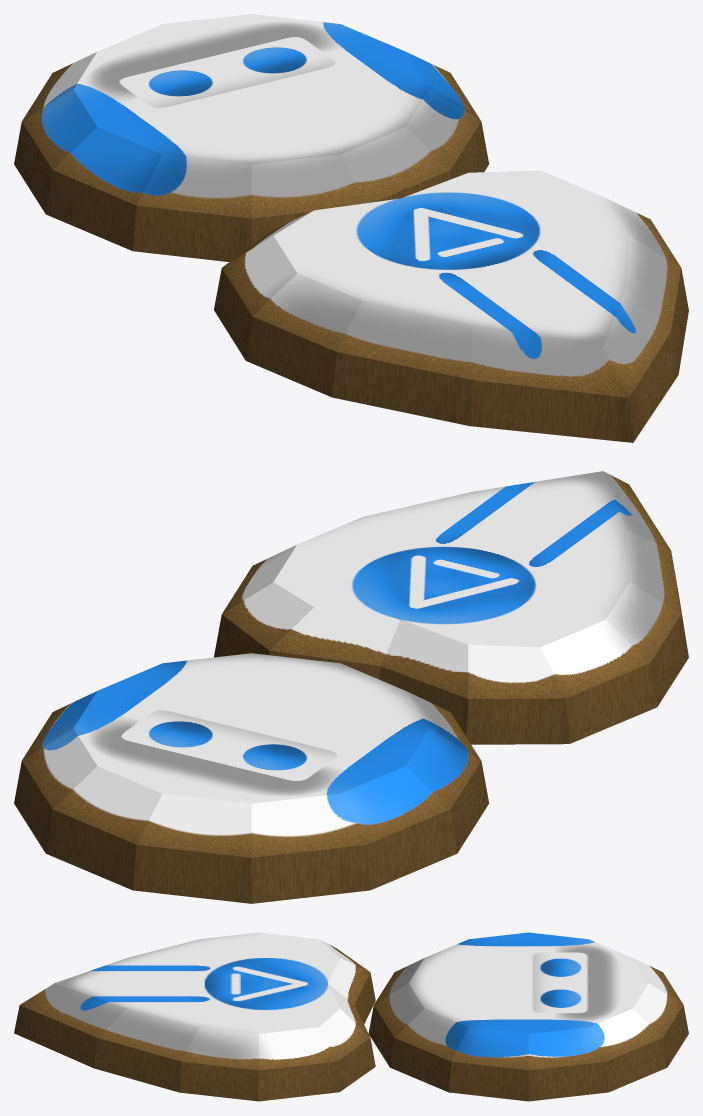
Rendered from cookie.obj.
3 views of the same model, one above another, from view 1: azimuth 30°, elevation 25°; view 2: azimuth 150°, elevation 25°; view 3: azimuth 270°, elevation 25° (orthographic). The views are drawn at different scales.
Visible parts, largest first — view 1: Circle; view 2: Circle; view 3: Circle.
Boxes of the visible parts, bbox=[...] form: Circle: bbox=[14, 14, 688, 442]; Circle: bbox=[14, 471, 688, 903]; Circle: bbox=[14, 932, 688, 1101].
Bounding box in the file's own units: 2.07 × 0.3615 × 4.36.
1 material, 1 textured.
